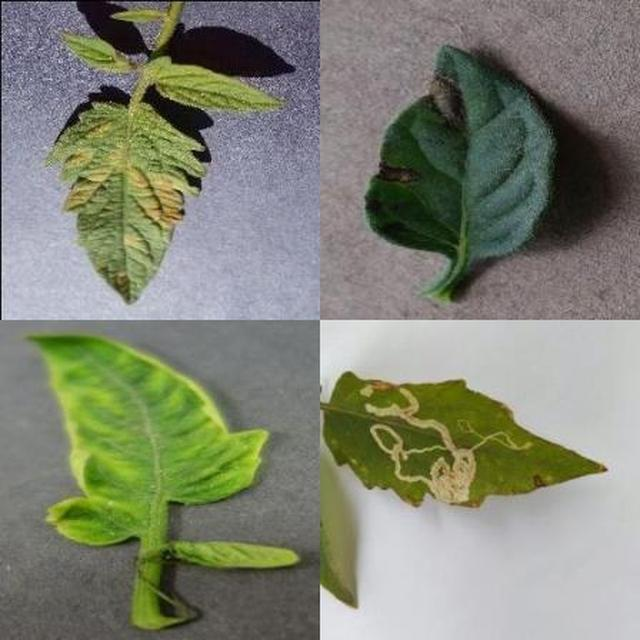Leaf Mold: (178, 44, 640, 640)
